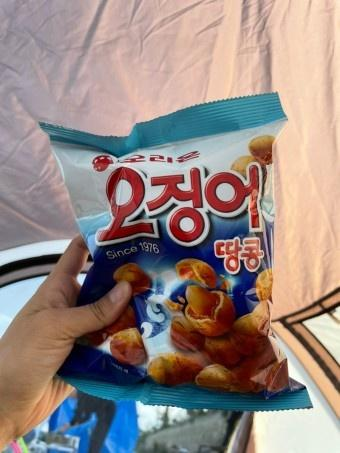snack: (39, 91, 314, 413)
